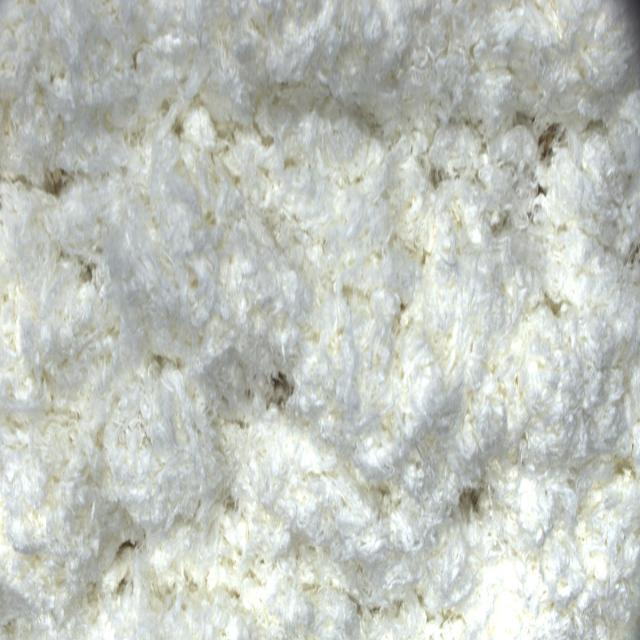dust: (464, 485, 489, 522), (538, 127, 561, 167), (275, 363, 291, 410), (40, 173, 70, 194)
